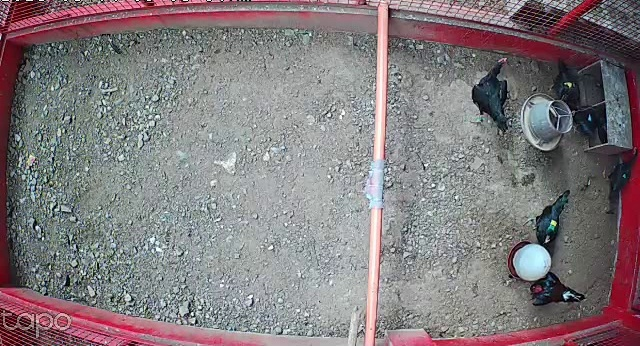Chicken: (467, 54, 514, 133), (521, 187, 572, 250), (602, 139, 638, 205), (547, 60, 583, 107), (568, 106, 602, 138)
Rooster: (528, 271, 586, 309)
Saddle_Color_Blue: (588, 114, 592, 121)
Saddle_Color_Yellow: (564, 81, 574, 90)
Saddle_Color_YellowGreen: (548, 219, 560, 231)
